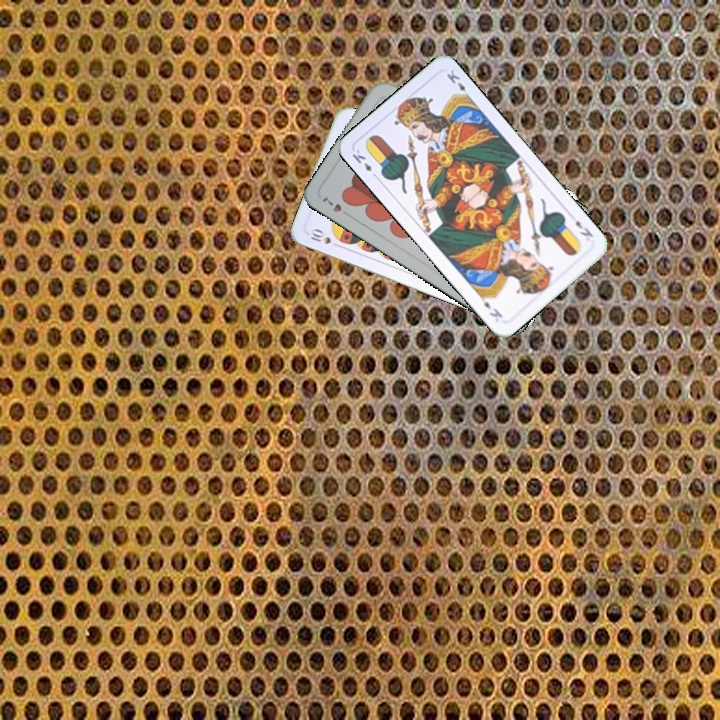EK: (348, 145, 381, 181), (571, 216, 596, 240)
H7: (318, 193, 353, 220)
S10: (304, 225, 334, 247)
